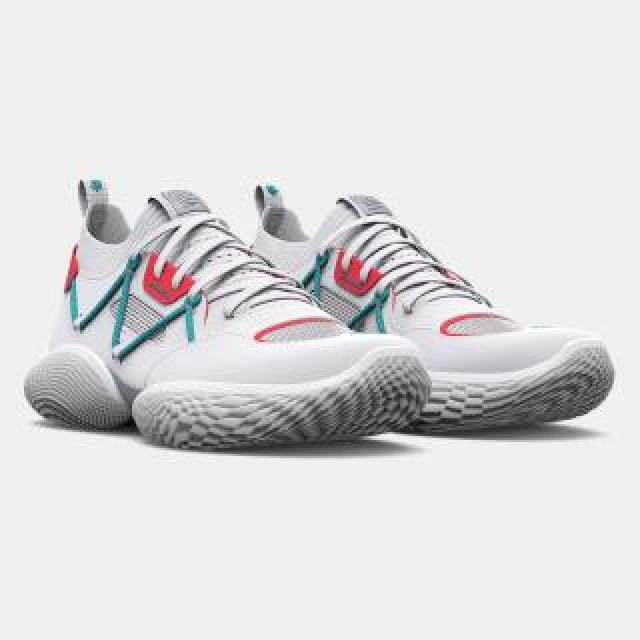shoe: (24, 178, 430, 450), (218, 182, 616, 432)
